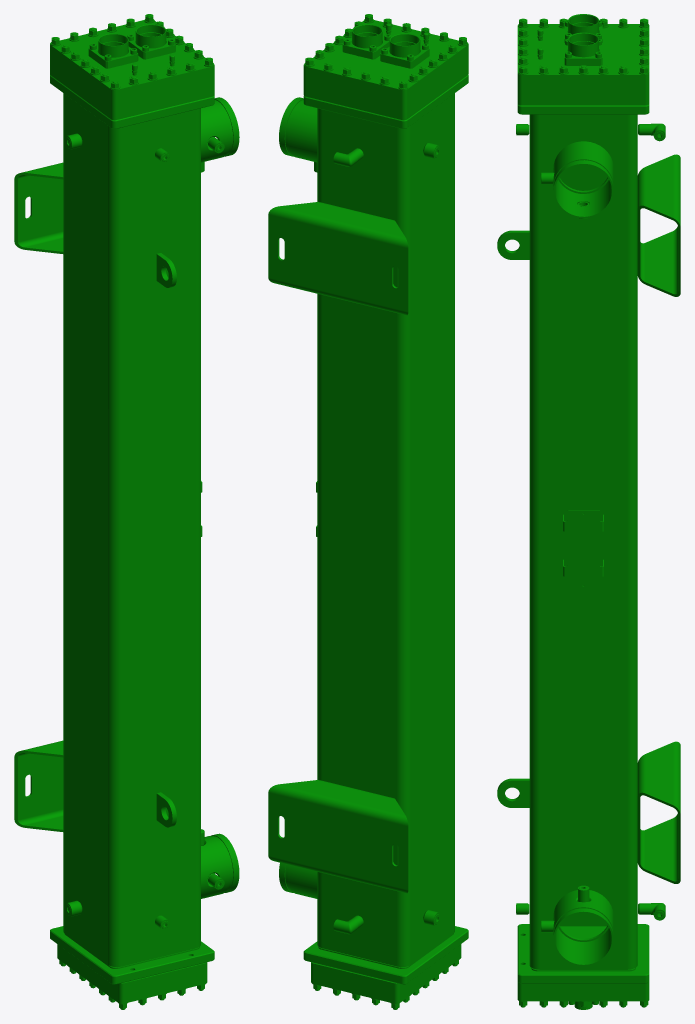
The model's file is evaporator.glb.
The picture shows the model from 3 angles, left to right: view 1: azimuth 30°, elevation 25°; view 2: azimuth 150°, elevation 25°; view 3: azimuth 270°, elevation 25°; orthographic projection.
Parts seen in each view (by area): view 1: SQD25072-R; view 2: SQD25072-R; view 3: SQD25072-R.
Boxes of the visible parts, bbox=[...] form: SQD25072-R: bbox=[14, 14, 239, 1009]; SQD25072-R: bbox=[268, 14, 468, 1009]; SQD25072-R: bbox=[497, 14, 680, 1009].
Bounding box in the file's own units: 0.441 × 2.48 × 0.425.
